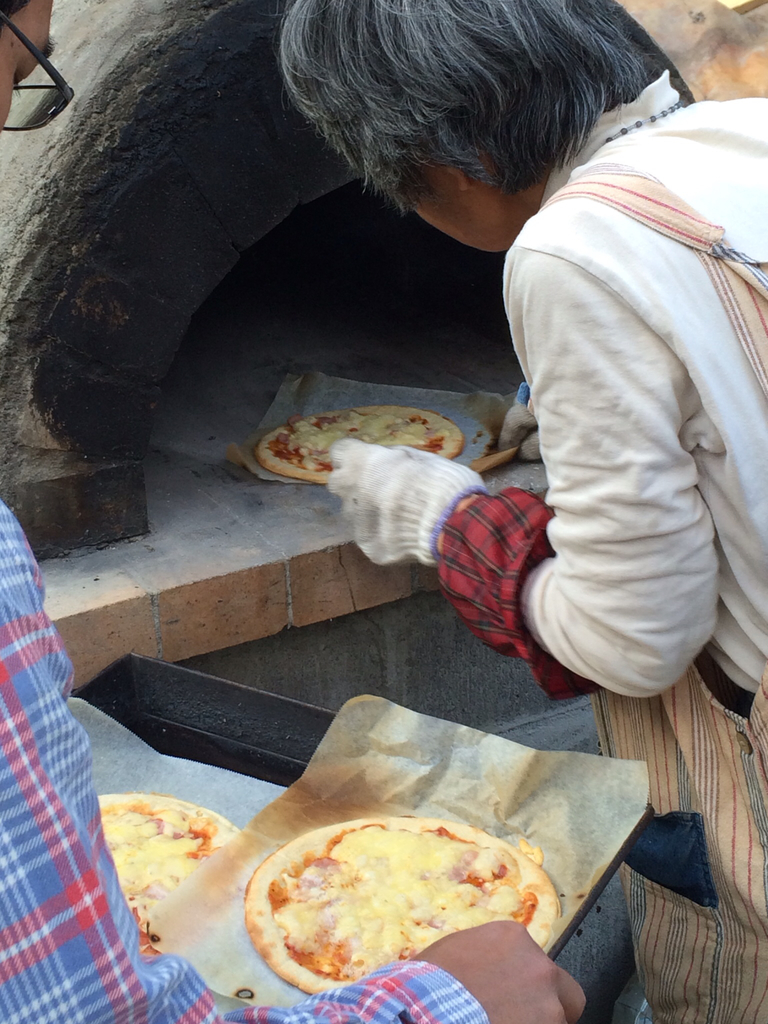Pizza: (257, 814, 554, 994), (103, 786, 236, 910), (272, 407, 460, 461)
